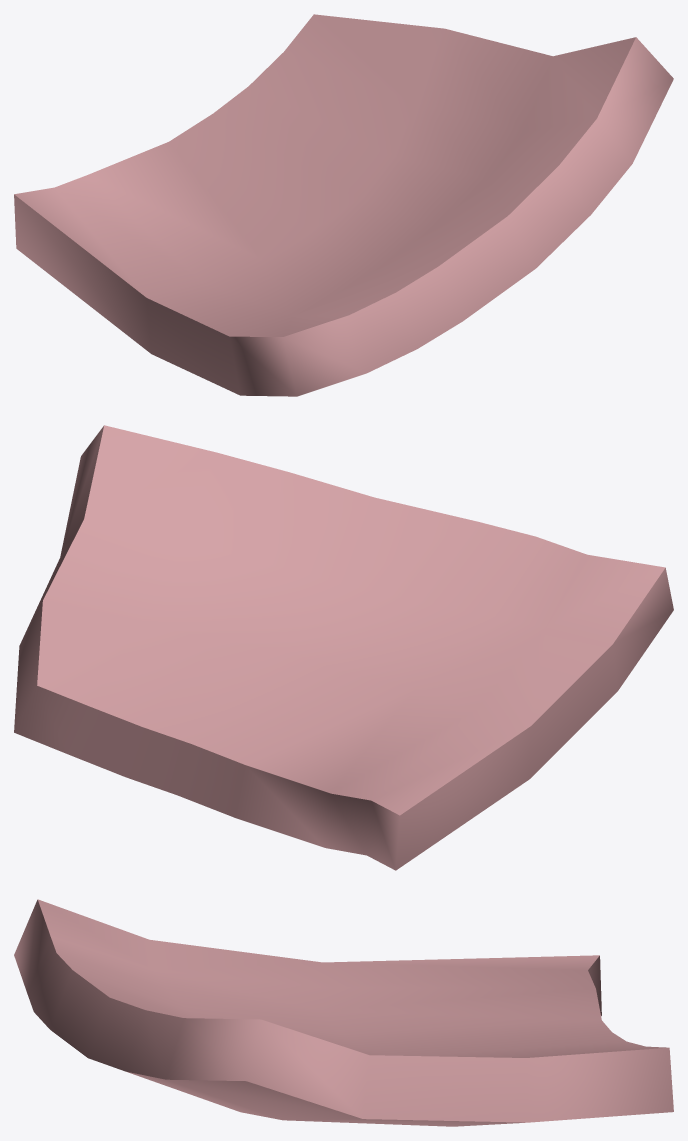
3 renders of one model, top to bottom at view 1: azimuth 30°, elevation 25°; view 2: azimuth 150°, elevation 25°; view 3: azimuth 270°, elevation 25°, orthographic. The views are drawn at different scales.
Visible parts, largest first — view 1: ZA_db19241d3b7a7793; view 2: ZA_db19241d3b7a7793; view 3: ZA_db19241d3b7a7793.
Part boxes in pixels (left/top/right/bottom): ZA_db19241d3b7a7793: left=14, top=14, right=673, bottom=396; ZA_db19241d3b7a7793: left=14, top=425, right=673, bottom=870; ZA_db19241d3b7a7793: left=14, top=899, right=673, bottom=1126.
Size of the model in its own units: 0.0276 by 0.0121 by 0.0307.
